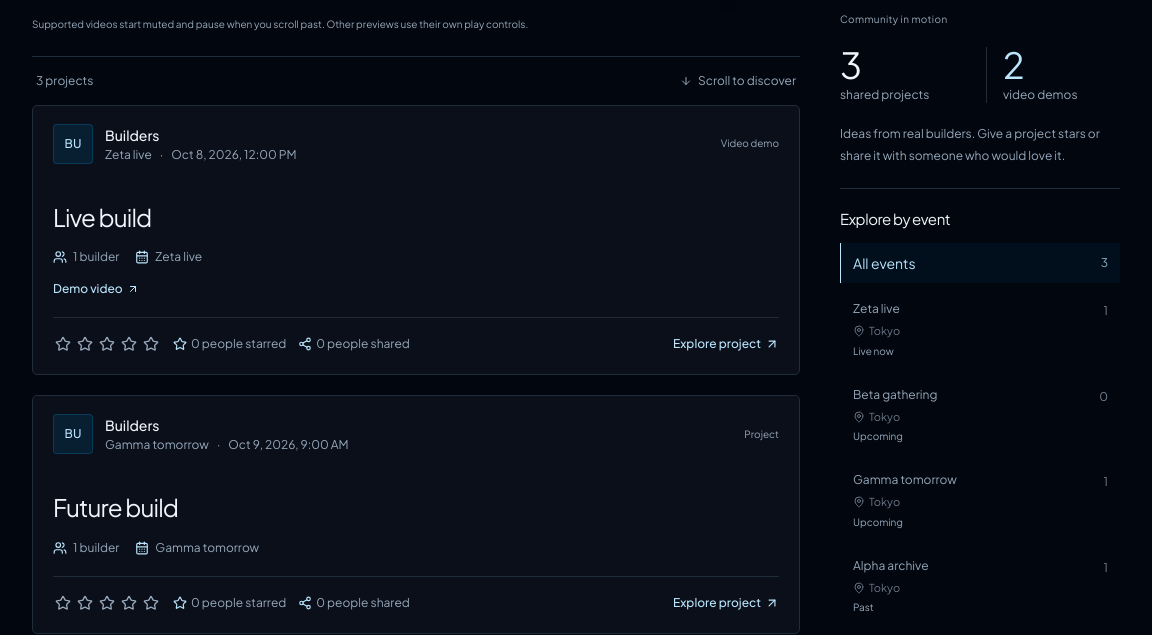
Test: current events in the public project feed › lets visitors select a current event before its first project and open that event
(page scrolled)
Click the button "Beta gathering Tokyo Upcoming 0" at (895, 394), box left=840, top=374, right=1120, bottom=454
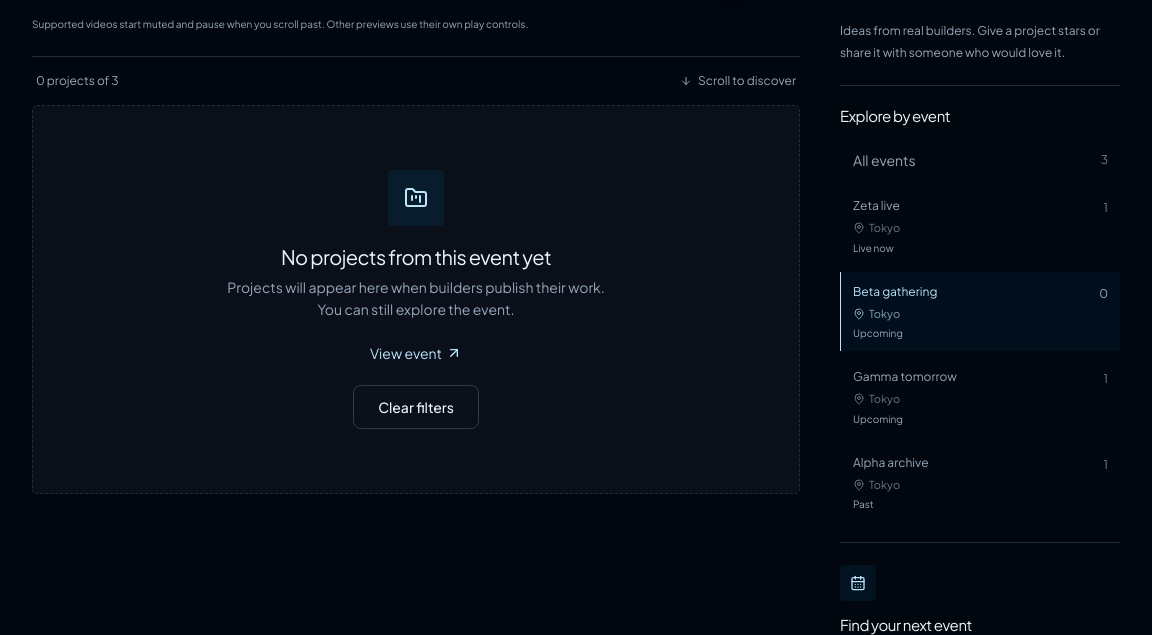
Expected: the heading "No projects from this event yet" is shown, left=281, top=244, right=551, bottom=269
